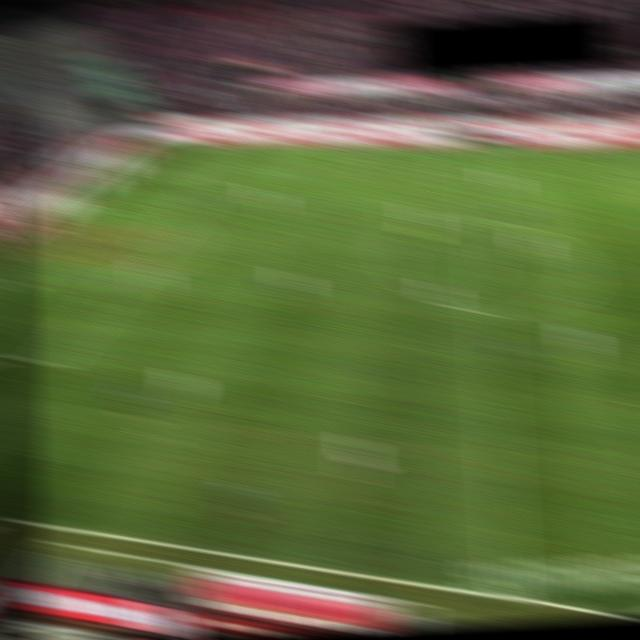bigarea_bottom_inner: (34, 354, 64, 370)
bigarea_top_inner: (200, 171, 231, 185)
bigarea_top_outter: (97, 168, 128, 183)
bottom_arc_area_intersection: (109, 271, 141, 286)
corner: (139, 138, 169, 152)
halfcircle_bottom: (473, 303, 504, 317)
halfcircle_top: (467, 212, 497, 227)
midline_bottom_intersection: (491, 586, 526, 609)
midline_top_intersection: (462, 142, 493, 156)
smallarea_bottom_inner: (3, 277, 34, 291)
smallarea_top_inner: (92, 201, 123, 217)
smallarea_top_outter: (56, 199, 87, 213)
top_arc_area_intersection: (165, 209, 197, 224)
